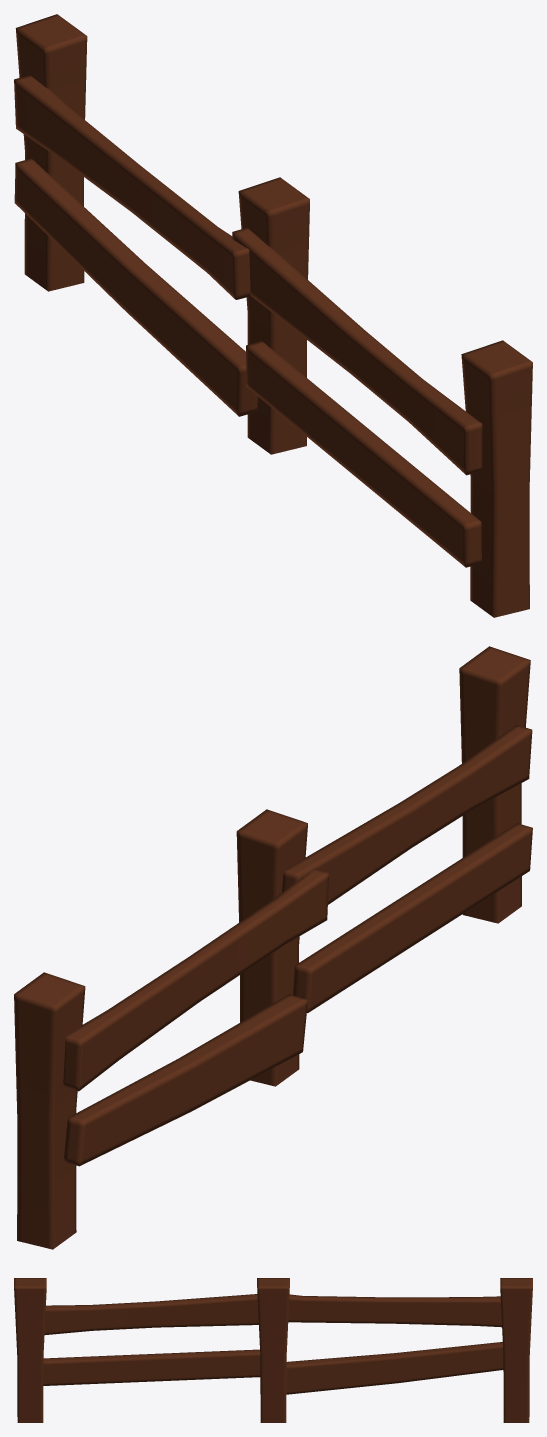
The model's file is Fence.fbx.
The picture shows the model from 3 angles, top to bottom: view 1: azimuth 30°, elevation 25°; view 2: azimuth 150°, elevation 25°; view 3: azimuth 270°, elevation 25°; orthographic projection. The views are drawn at different scales.
Parts seen in each view (by area): view 1: Box034; view 2: Box034; view 3: Box034.
Part boxes in pixels (box(x1,y1,x2,y2)): Box034: box(14, 14, 532, 617); Box034: box(14, 646, 532, 1249); Box034: box(14, 1278, 532, 1422).
Bounding box in the file's own units: 60.09 × 207 × 715.
